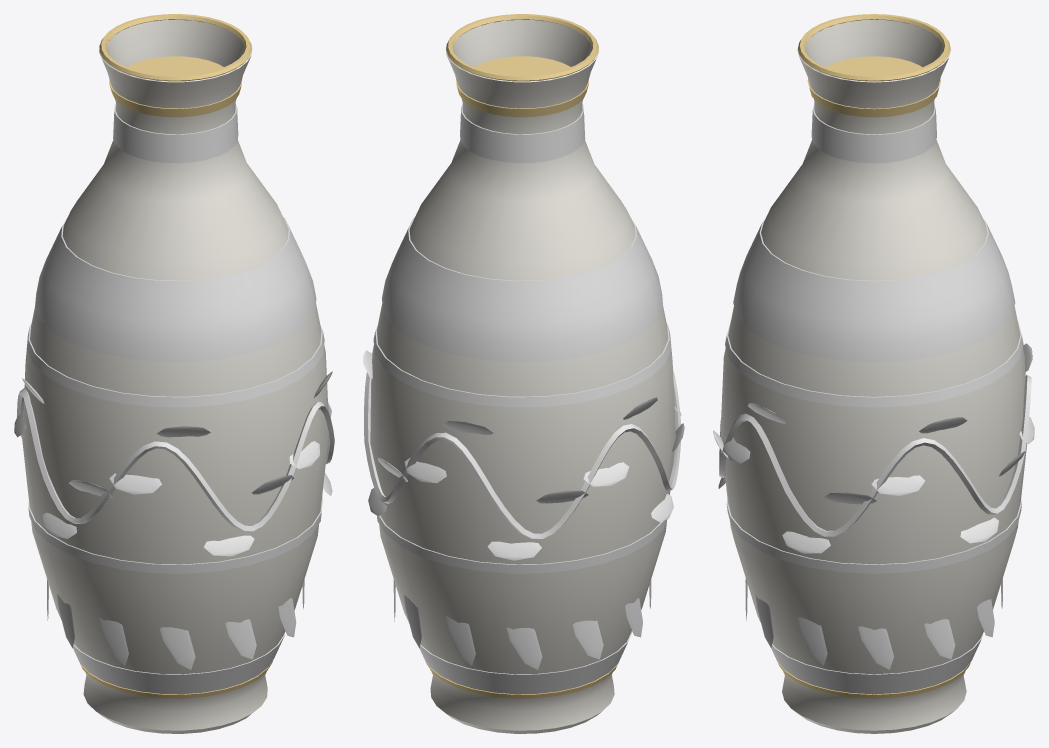
The model's file is SM_Loot_Vase.fbx.
3 views of the same model, side by side, from view 1: azimuth 30°, elevation 25°; view 2: azimuth 150°, elevation 25°; view 3: azimuth 270°, elevation 25° (orthographic).
Visible parts, largest first — view 1: SM_Loot_Vase_1; view 2: SM_Loot_Vase_1; view 3: SM_Loot_Vase_1.
Boxes of the visible parts, <box> form: SM_Loot_Vase_1: <box>14,14,334,733</box>; SM_Loot_Vase_1: <box>363,14,684,733</box>; SM_Loot_Vase_1: <box>713,14,1034,733</box>.
Size of the model in its own units: 18.74 by 42.09 by 18.81.
